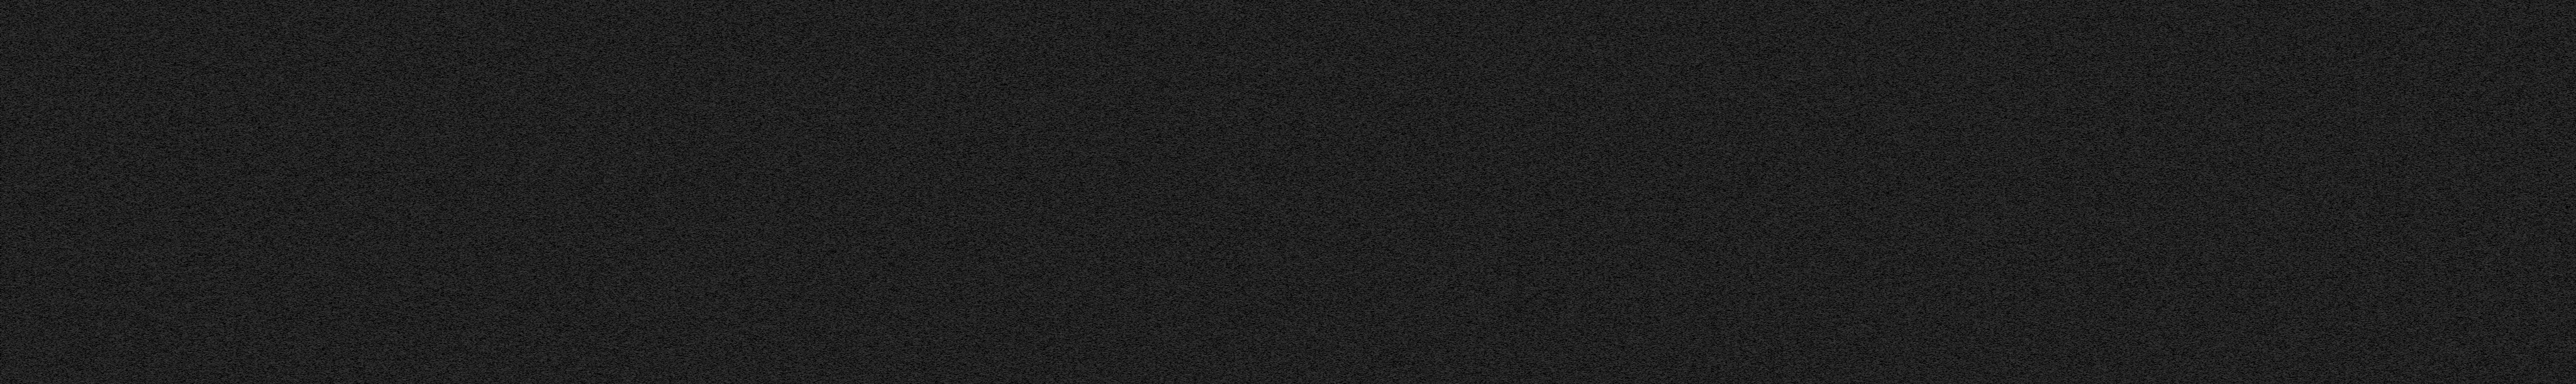wv_cw: (2236, 0, 2244, 384)
wv_lsb: (2035, 151, 2040, 317), (2037, 3, 2040, 151), (1221, 279, 1224, 343), (2037, 327, 2040, 384), (1219, 200, 1224, 238), (1219, 51, 1224, 80), (1219, 361, 1224, 379), (2019, 94, 2022, 118), (2019, 154, 2022, 169), (2019, 123, 2022, 136), (2019, 143, 2022, 154), (2019, 256, 2022, 266), (2019, 241, 2022, 251), (2019, 376, 2022, 384), (2019, 197, 2022, 205), (2019, 189, 2022, 197), (1221, 117, 1222, 131), (2019, 287, 2022, 294), (2019, 174, 2022, 181), (1221, 256, 1222, 269), (2019, 295, 2022, 300), (2019, 282, 2022, 287), (2019, 276, 2022, 281), (2019, 267, 2022, 272), (2019, 251, 2022, 256), (2019, 138, 2022, 143), (2019, 325, 2022, 328), (2019, 310, 2022, 313), (2019, 205, 2022, 208), (2019, 182, 2022, 185), (2019, 89, 2022, 92), (1219, 381, 1222, 384), (1221, 249, 1222, 256), (1221, 151, 1222, 156), (1221, 110, 1222, 113), (1221, 8, 1222, 11), (2019, 373, 2021, 376), (2019, 368, 2022, 369), (2021, 351, 2022, 354), (2021, 318, 2022, 322), (2021, 307, 2022, 310), (2021, 228, 2022, 231), (2019, 210, 2022, 212), (2019, 187, 2022, 189), (2019, 171, 2022, 172), (2019, 120, 2022, 121), (2021, 80, 2022, 84), (2037, 318, 2039, 322), (1221, 358, 1222, 361), (1221, 353, 1222, 356), (1221, 348, 1222, 351), (1221, 343, 1222, 346), (1221, 271, 1222, 274), (1221, 241, 1222, 245), (1221, 171, 1222, 172), (1221, 158, 1222, 159), (1221, 107, 1222, 108), (1221, 95, 1222, 97), (1221, 89, 1222, 90), (1221, 82, 1222, 84), (1221, 5, 1222, 7), (2021, 359, 2022, 361), (2021, 358, 2022, 359), (2021, 341, 2022, 343), (2021, 336, 2022, 338), (2021, 333, 2022, 335), (2021, 328, 2022, 330), (2021, 317, 2022, 318), (2021, 218, 2022, 220), (2021, 215, 2022, 217), (2021, 71, 2022, 72), (2021, 30, 2022, 31), (2021, 15, 2022, 16), (2021, 8, 2022, 10), (1221, 276, 1222, 277)
wv_usb: (1999, 3, 2004, 384)
wv_wbfm: (1012, 0, 1120, 384), (1835, 0, 1934, 384), (1045, 141, 1142, 384), (1050, 34, 1140, 117), (1073, 3, 1130, 26), (1078, 121, 1106, 135), (1060, 113, 1102, 121), (1083, 130, 1101, 141), (1102, 25, 1124, 33), (1092, 130, 1107, 141), (1097, 121, 1115, 130), (1073, 30, 1102, 34), (1065, 0, 1088, 5), (1102, 131, 1115, 139), (1060, 126, 1081, 131), (1053, 16, 1063, 25), (1063, 16, 1073, 25), (1073, 136, 1086, 141), (1094, 25, 1106, 30), (1083, 21, 1094, 26), (1056, 0, 1068, 5), (1097, 118, 1112, 121), (1076, 121, 1084, 126), (1112, 135, 1120, 139), (1056, 34, 1068, 38), (1115, 121, 1122, 126), (1122, 30, 1130, 33), (1086, 0, 1094, 3), (1127, 26, 1134, 30), (1132, 7, 1138, 10), (1048, 0, 1055, 3), (1107, 126, 1119, 128), (1119, 131, 1124, 135), (1065, 33, 1073, 34), (1138, 26, 1142, 30), (1078, 135, 1081, 136)
